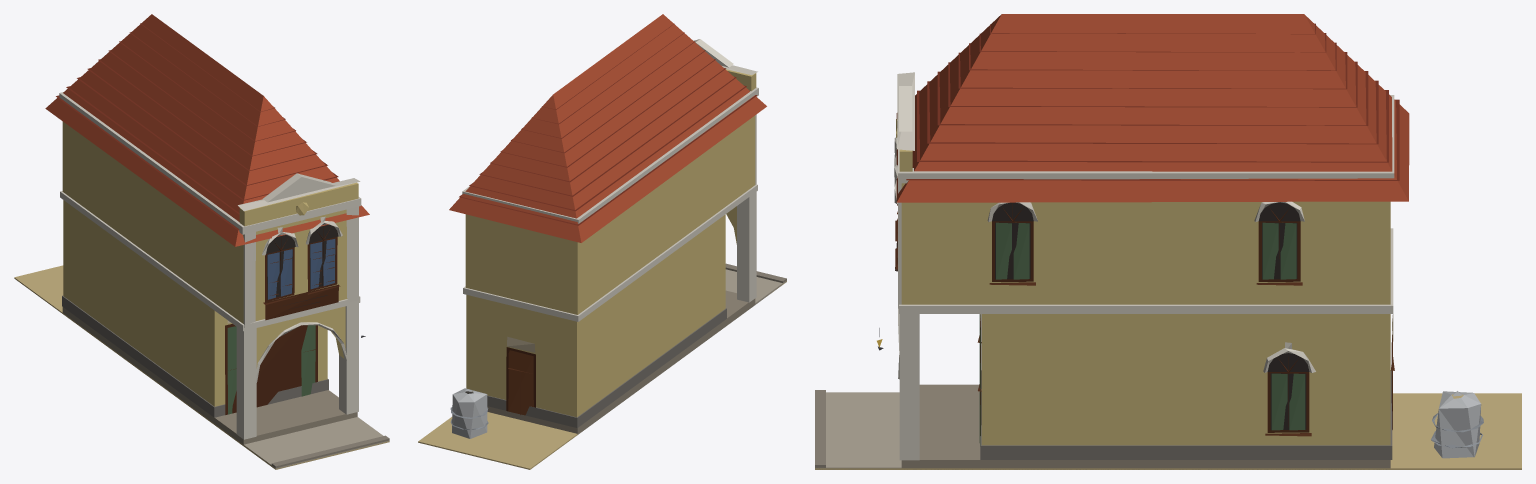
Rendered from bay1_right.glb.
3 views of the same model, side by side, from view 1: azimuth 30°, elevation 25°; view 2: azimuth 150°, elevation 25°; view 3: azimuth 270°, elevation 25° (orthographic). The views are drawn at different scales.
Parts seen in each view (by area): view 1: body, windows; view 2: body; view 3: body, windows.
Boxes of the visible parts, bbox=[...] form: body: bbox=[14, 14, 389, 469]; windows: bbox=[266, 224, 338, 299]; body: bbox=[418, 14, 786, 469]; body: bbox=[815, 14, 1521, 469]; windows: bbox=[877, 202, 1309, 430].
Size of the model in its own units: 4.75 by 10.38 by 15.9.
